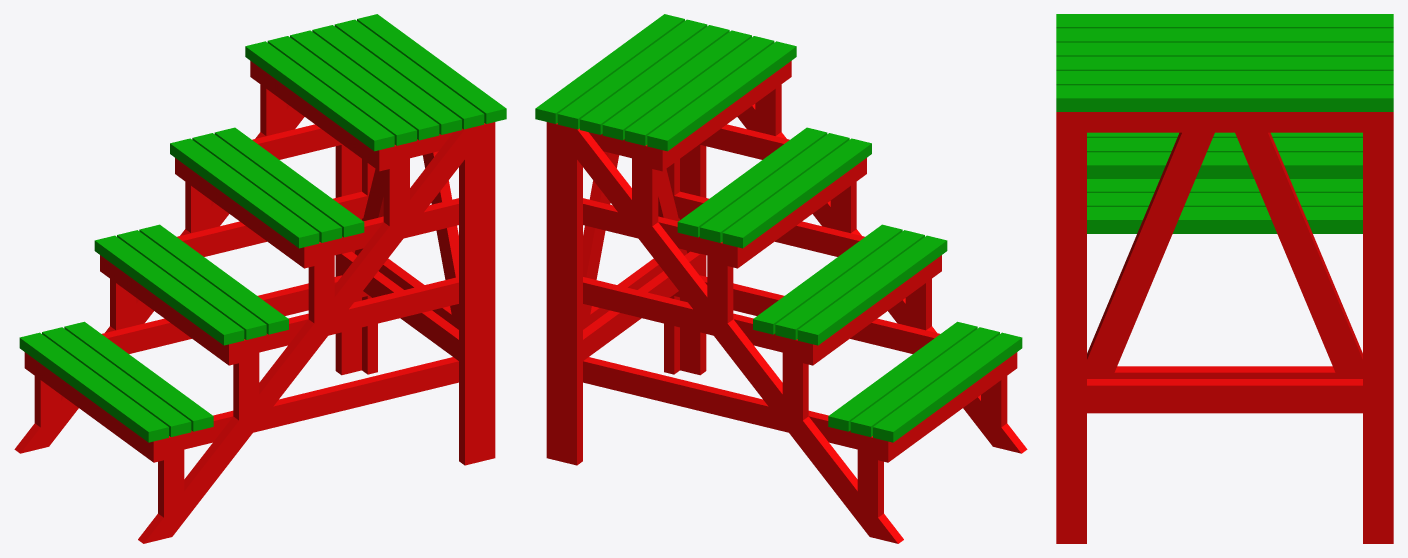
Rendered from result.glb.
3 views of the same model, side by side, from view 1: azimuth 30°, elevation 25°; view 2: azimuth 150°, elevation 25°; view 3: azimuth 270°, elevation 25° (orthographic). The views are drawn at different scales.
Visible parts, largest first — view 1: 86c589af-c9b5-4245-8978-8f6010c526bc__undefined, dddf4fa6-0199-4cc8-8878-530a5440ae8f__undefined, 1b752697-f959-43e3-83df-2ce04bebc93f__undefined, 96e673f7-91e6-4030-a6d9-866217d9c11b__undefined, c7f7dc16-d7ce-4a26-bd34-94c697079ce2__undefined, f7da3f8d-34d2-4da6-930e-7023b87f161e__undefined, 3a354891-f479-4caf-9253-364d76390513__undefined, cbc5173a-152d-4e87-b55a-e7736d905151__undefined, 4ade3d12-d14b-4268-8de7-cf501517b2f6__undefined, 2c366f7c-024c-4ba9-b07c-7cd7c8c6536d__undefined, b9c15778-d586-404d-9d23-5e1d7802d7c5__undefined, 1f7bd0ca-4f49-4a5e-9045-e7aa03d4c9f7__undefined (+32 smaller); view 2: 69a50cb6-8d03-4472-8f38-7a5d18ebe64d__undefined, 3c4d776c-4ce7-4ad1-9143-b1b5ed3ca3cf__undefined, 99d87e42-6c88-4c2f-9ad1-025b348c9e77__undefined, 96e673f7-91e6-4030-a6d9-866217d9c11b__undefined, c7f7dc16-d7ce-4a26-bd34-94c697079ce2__undefined, f7da3f8d-34d2-4da6-930e-7023b87f161e__undefined, 3a354891-f479-4caf-9253-364d76390513__undefined, d26034f5-9267-49e0-bc6d-52246cffd904__undefined, 2500f3b3-8163-4d70-b9d1-29b6092383b7__undefined, 2c366f7c-024c-4ba9-b07c-7cd7c8c6536d__undefined, b9c15778-d586-404d-9d23-5e1d7802d7c5__undefined, 1f7bd0ca-4f49-4a5e-9045-e7aa03d4c9f7__undefined (+33 smaller); view 3: 4ade3d12-d14b-4268-8de7-cf501517b2f6__undefined, 2500f3b3-8163-4d70-b9d1-29b6092383b7__undefined, 38f7691a-cdf6-4138-8bf6-baa3952725cf__undefined, 32d082f2-6fce-4cd9-bbb0-299b117aa25f__undefined, 30b97ef9-ecb7-401c-89fc-00615c3844cb__undefined (×2), 64058520-6a5a-49d3-be54-02ddd2e384f1__undefined, 03b0cacb-3b5b-4255-8adf-cab6e87e98d9__undefined, 6b2a4aac-13ee-4e81-89f4-ded551edf260__undefined, d70c8468-3705-40a8-a730-df55e322a68c__undefined, c7f7dc16-d7ce-4a26-bd34-94c697079ce2__undefined, 282b1b2f-717a-4a1d-901c-6329e49638ec__undefined, 1f7bd0ca-4f49-4a5e-9045-e7aa03d4c9f7__undefined (+7 smaller).
Boxes of the visible parts, left/top/right/bottom form: 86c589af-c9b5-4245-8978-8f6010c526bc__undefined: left=138, top=128, right=464, bottom=543; dddf4fa6-0199-4cc8-8878-530a5440ae8f__undefined: left=459, top=124, right=485, bottom=465; 1b752697-f959-43e3-83df-2ce04bebc93f__undefined: left=184, top=357, right=458, bottom=449; 96e673f7-91e6-4030-a6d9-866217d9c11b__undefined: left=94, top=235, right=244, bottom=345; c7f7dc16-d7ce-4a26-bd34-94c697079ce2__undefined: left=245, top=41, right=394, bottom=151; f7da3f8d-34d2-4da6-930e-7023b87f161e__undefined: left=170, top=138, right=319, bottom=248; 3a354891-f479-4caf-9253-364d76390513__undefined: left=19, top=332, right=168, bottom=442; cbc5173a-152d-4e87-b55a-e7736d905151__undefined: left=259, top=277, right=458, bottom=352; 4ade3d12-d14b-4268-8de7-cf501517b2f6__undefined: left=485, top=143, right=495, bottom=460; 2c366f7c-024c-4ba9-b07c-7cd7c8c6536d__undefined: left=214, top=127, right=364, bottom=237; b9c15778-d586-404d-9d23-5e1d7802d7c5__undefined: left=334, top=19, right=484, bottom=129; 1f7bd0ca-4f49-4a5e-9045-e7aa03d4c9f7__undefined: left=290, top=30, right=439, bottom=140; 69a50cb6-8d03-4472-8f38-7a5d18ebe64d__undefined: left=577, top=128, right=903, bottom=543; 3c4d776c-4ce7-4ad1-9143-b1b5ed3ca3cf__undefined: left=556, top=124, right=582, bottom=465; 99d87e42-6c88-4c2f-9ad1-025b348c9e77__undefined: left=583, top=357, right=857, bottom=449; 96e673f7-91e6-4030-a6d9-866217d9c11b__undefined: left=797, top=235, right=947, bottom=345; c7f7dc16-d7ce-4a26-bd34-94c697079ce2__undefined: left=647, top=41, right=796, bottom=151; f7da3f8d-34d2-4da6-930e-7023b87f161e__undefined: left=722, top=138, right=871, bottom=248; 3a354891-f479-4caf-9253-364d76390513__undefined: left=873, top=332, right=1022, bottom=442; d26034f5-9267-49e0-bc6d-52246cffd904__undefined: left=583, top=277, right=782, bottom=352; 2500f3b3-8163-4d70-b9d1-29b6092383b7__undefined: left=546, top=143, right=556, bottom=460; 2c366f7c-024c-4ba9-b07c-7cd7c8c6536d__undefined: left=677, top=127, right=827, bottom=237; b9c15778-d586-404d-9d23-5e1d7802d7c5__undefined: left=557, top=19, right=707, bottom=129; 1f7bd0ca-4f49-4a5e-9045-e7aa03d4c9f7__undefined: left=602, top=30, right=751, bottom=140; 4ade3d12-d14b-4268-8de7-cf501517b2f6__undefined: left=1056, top=132, right=1086, bottom=543; 2500f3b3-8163-4d70-b9d1-29b6092383b7__undefined: left=1363, top=132, right=1393, bottom=543; 38f7691a-cdf6-4138-8bf6-baa3952725cf__undefined: left=1087, top=379, right=1362, bottom=413; 32d082f2-6fce-4cd9-bbb0-299b117aa25f__undefined: left=1056, top=85, right=1393, bottom=111; 30b97ef9-ecb7-401c-89fc-00615c3844cb__undefined (×2): left=1087, top=132, right=1214, bottom=378; 64058520-6a5a-49d3-be54-02ddd2e384f1__undefined: left=1235, top=132, right=1362, bottom=378; 03b0cacb-3b5b-4255-8adf-cab6e87e98d9__undefined: left=1056, top=112, right=1393, bottom=132; 6b2a4aac-13ee-4e81-89f4-ded551edf260__undefined: left=1087, top=207, right=1362, bottom=233; d70c8468-3705-40a8-a730-df55e322a68c__undefined: left=1087, top=152, right=1362, bottom=178; c7f7dc16-d7ce-4a26-bd34-94c697079ce2__undefined: left=1056, top=14, right=1393, bottom=28; 282b1b2f-717a-4a1d-901c-6329e49638ec__undefined: left=1056, top=28, right=1393, bottom=42; 1f7bd0ca-4f49-4a5e-9045-e7aa03d4c9f7__undefined: left=1056, top=42, right=1393, bottom=56.
Bounding box in the file's own units: 892 × 815 × 550.
